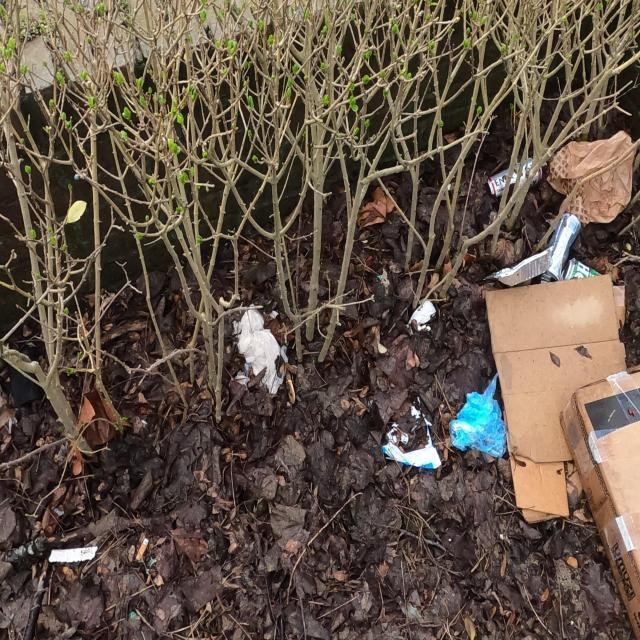Can-Metal: (486, 156, 542, 200), (546, 212, 582, 280), (562, 256, 602, 284)
Paper: (544, 129, 638, 229), (234, 302, 289, 396), (484, 245, 554, 287), (406, 298, 436, 332)
Plastic: (382, 394, 442, 470)
